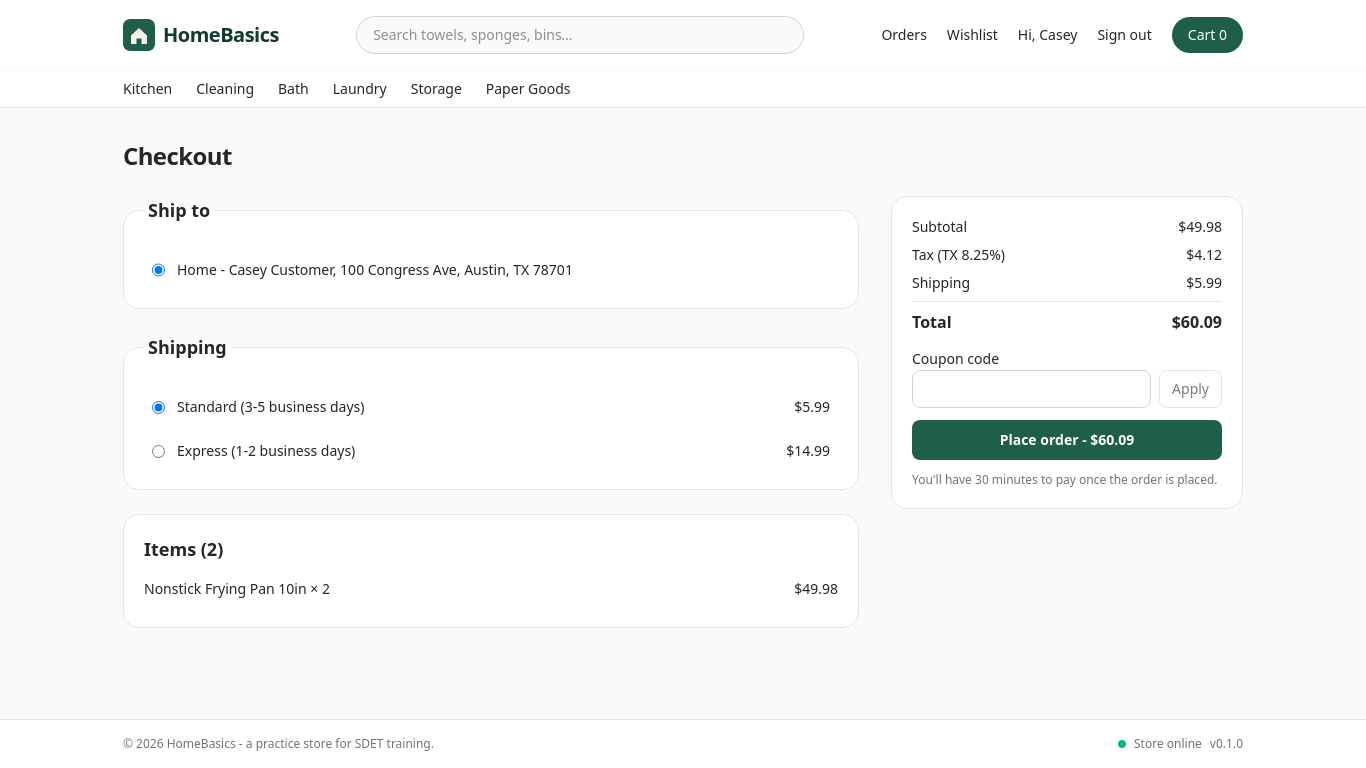
Test: CheckoutPage › lists every problem line when stock changed (CHK-04)
This screenshot has width=1366, height=768.
Click the button with test id "place-order".
click(1067, 440)  # box [912,420,1222,460]
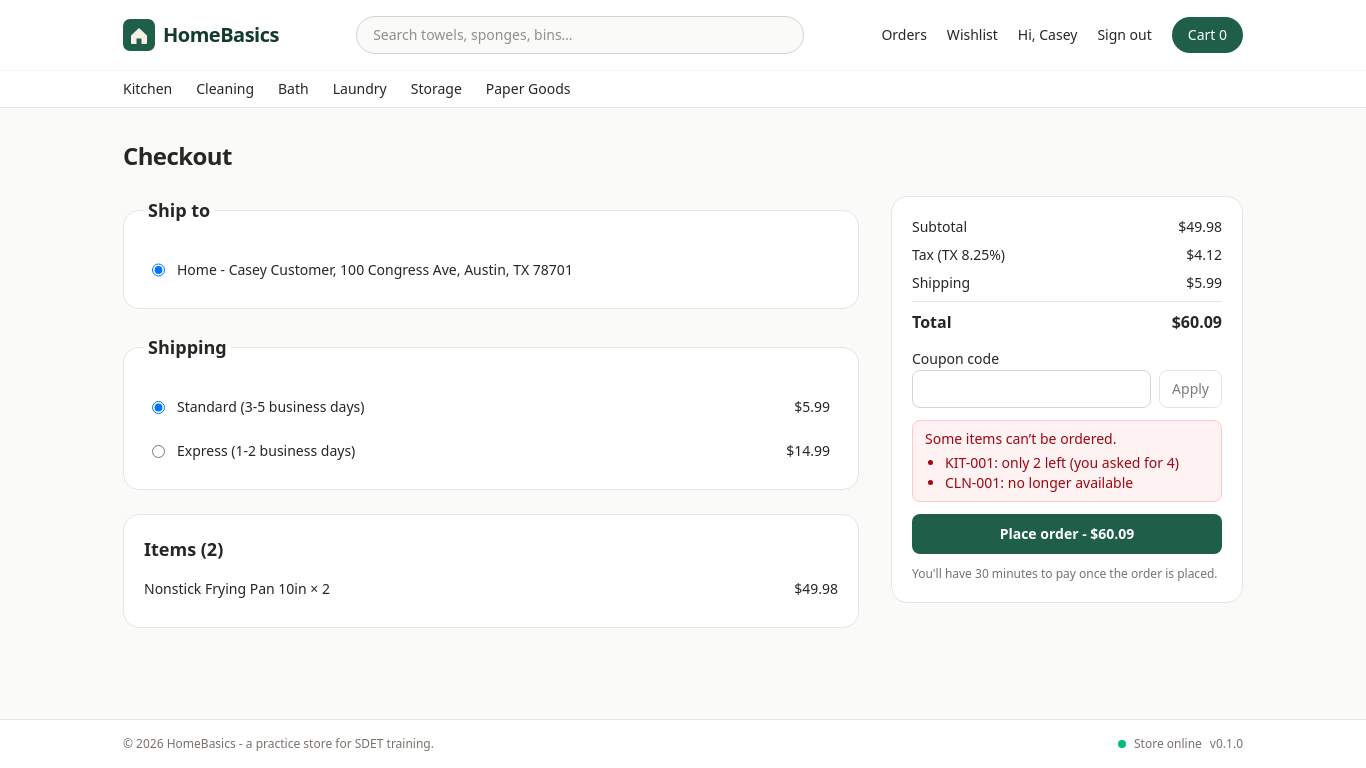
Expected: the list with test id "checkout-problem-lines" shows "KIT-001: only 2 left (you asked for 4)", [945,453,1179,492]
Expected: the list with test id "checkout-problem-lines" shows "CLN-001: no longer available", [945,453,1179,492]
